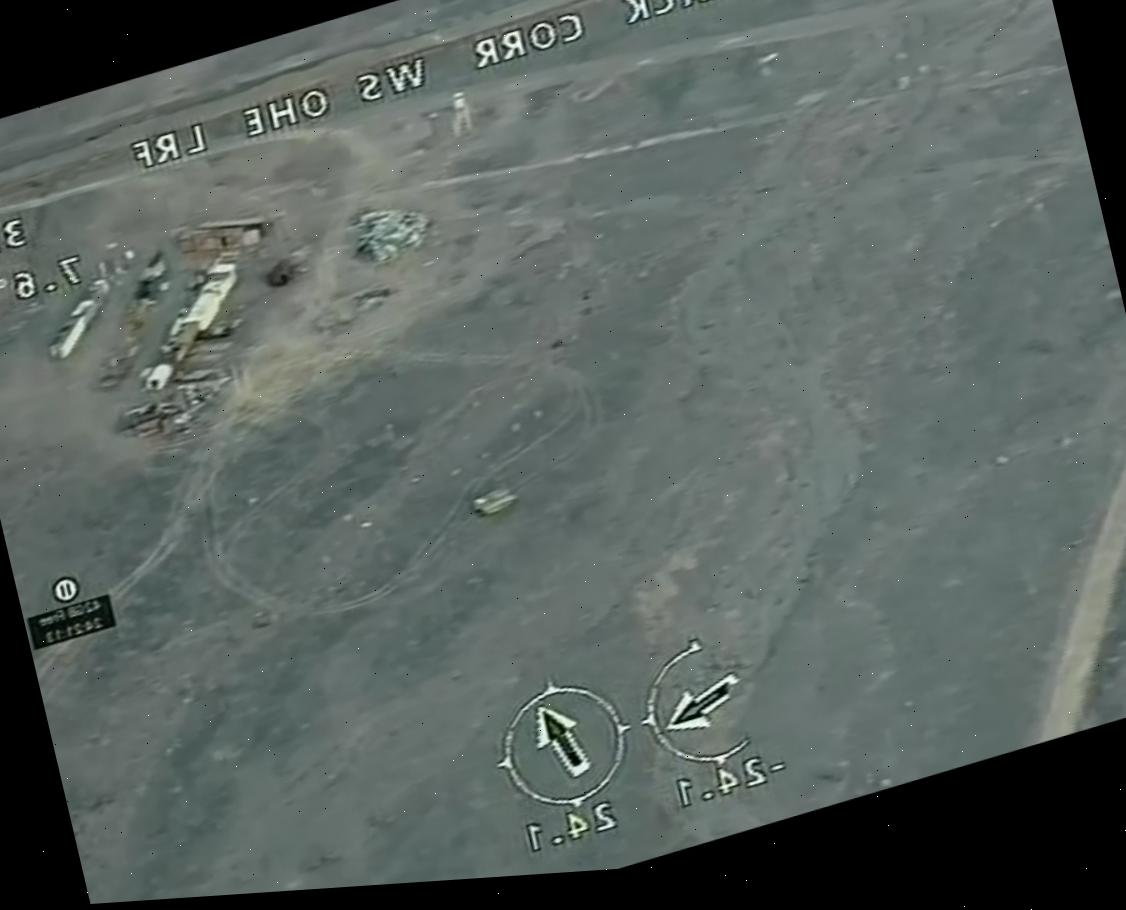armored_car: (467, 478, 524, 522)
